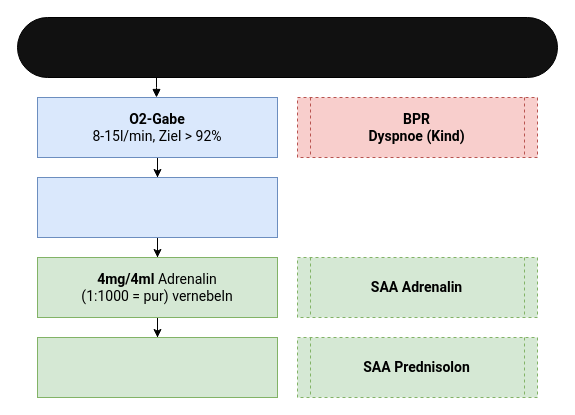
This 575x415 diagram has some shape labels left out. Each missing label, with the box of its shape:
100mg Prednisolon als Zäpfchen: (36, 336, 278, 398)
Anfeuchten der Atemluft Sitzende Lagerung: (36, 176, 278, 238)
Pseudokrupp: (16, 16, 558, 78)
